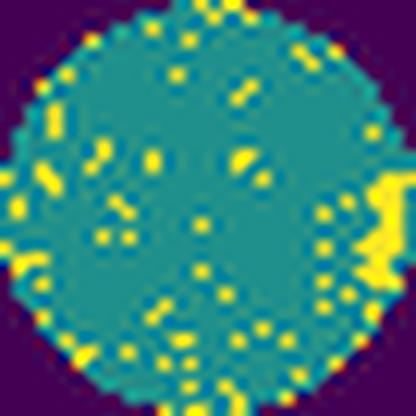Loc: (352, 172, 415, 296)
